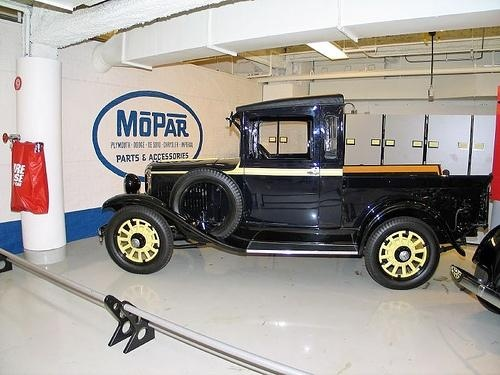car: (100, 93, 494, 291), (450, 223, 500, 318)
